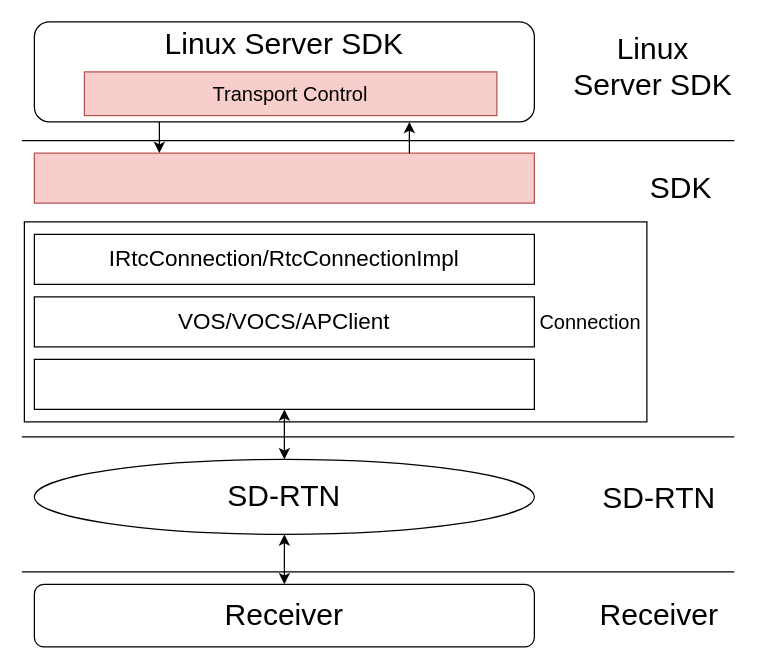
This 758x669 diagram has some shape labels left out. The shapes that lost their labels are listed below. From the top down, each one's box as (x1, y1, x2, y2) in pixels, then its label:
(33, 152, 534, 203): ILocalUser/ILocalUserEx/LocalUserImpl
(33, 358, 534, 409): IO Multiplexer
